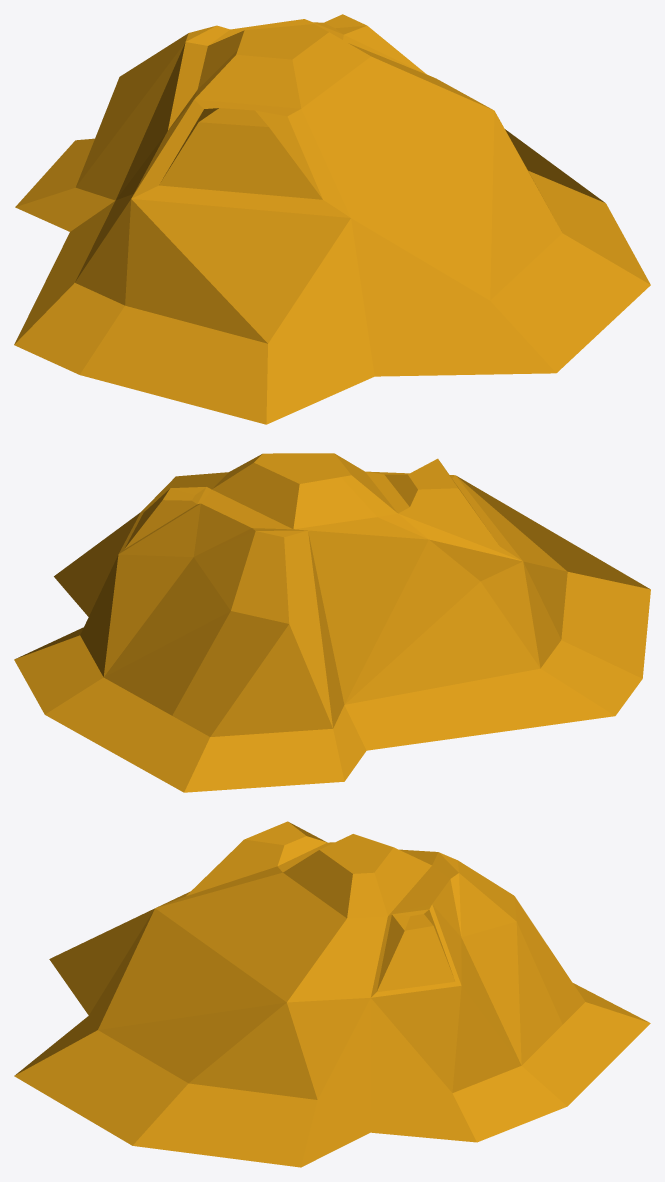
File: ClayNode.fbx
3 views of the same model, one above another, from view 1: azimuth 30°, elevation 25°; view 2: azimuth 150°, elevation 25°; view 3: azimuth 270°, elevation 25° (orthographic). The views are drawn at different scales.
Visible parts, largest first — view 1: Cube; view 2: Cube; view 3: Cube.
Boxes of the visible parts, left/top/right/bottom form: Cube: left=14, top=14, right=650, bottom=424; Cube: left=14, top=453, right=650, bottom=792; Cube: left=14, top=821, right=650, bottom=1167.
Bounding box in the file's own units: 89.95 × 30.66 × 94.94.
